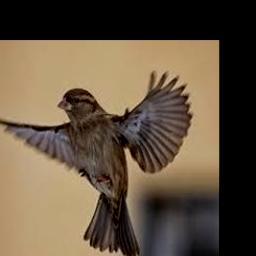Sparrow: (0, 70, 192, 256)
